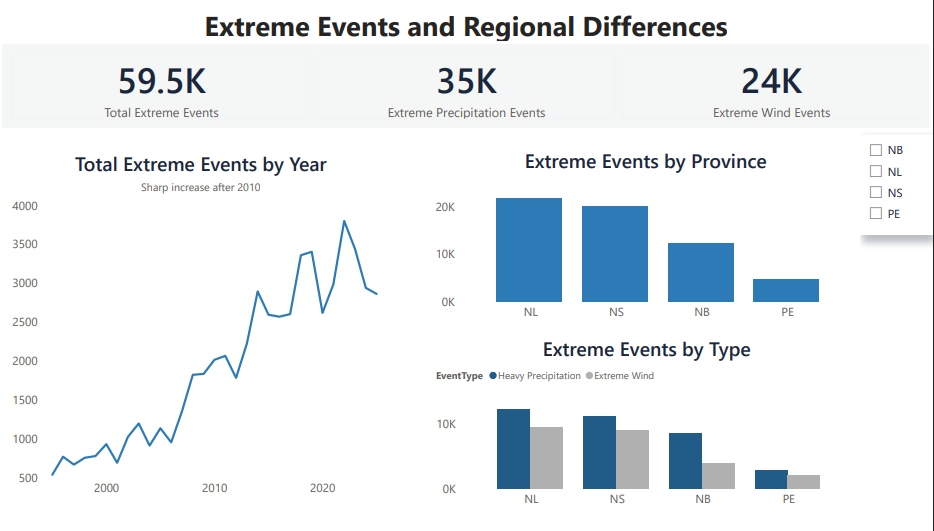

What the dashboard file says about the page in this screenshot:
{"tool":"powerbi","page":{"name":"Extreme Events","canvas":[1280,720],"ordinal":2},"visuals":[{"type":"textbox","box":[0,0,1280.5,76.1],"z":0},{"type":"cardVisual","fields":{"Data":["Fact_Extreme_Events.Total Extreme Events","Fact_Extreme_Events.Extreme Precipitation Events","Fact_Extreme_Events.Extreme Wind Events"]},"box":[0,51.2,1280.5,125.9],"z":1000},{"type":"lineChart","fields":{"Category":["Dim_Calendar.Year"],"Y":["Fact_Extreme_Events.Total Extreme Events"]},"box":[12.5,180,527.5,506.2],"z":2000},{"type":"clusteredColumnChart","title":"Extreme Events by Type","fields":{"Y":["Fact_Extreme_Events.Total Extreme Events"],"Category":["Fact_Extreme_Events.EventType","Dim_Station.ProvinceCode","Dim_Calendar.Year"],"Series":["Fact_Extreme_Events.EventType"]},"box":[593.8,433.8,587.5,267.5],"z":3000},{"type":"slicer","fields":{"Values":["Dim_Station.ProvinceCode"]},"box":[1180.1,179.8,99.9,137.4],"z":5000},{"type":"clusteredColumnChart","title":"Extreme Events by Province","fields":{"Category":["Dim_Station.ProvinceCode","Dim_Calendar.Year"],"Y":["Fact_Extreme_Events.Total Extreme Events"]},"box":[593.2,177.3,586.9,267.2],"z":6000}]}

Visuals, with their boxes in screenshot pixels (x1, y1, x2, y2), scaled from the page's 1280x720 canvas onto the 934x531 screenshot:
textbox: pyautogui.locateOnScreen(0, 0, 933, 56)
cardVisual - Fact_Extreme_Events.Total Extreme Events x Fact_Extreme_Events.Extreme Precipitation Events: pyautogui.locateOnScreen(0, 38, 933, 131)
lineChart - Dim_Calendar.Year x Fact_Extreme_Events.Total Extreme Events: pyautogui.locateOnScreen(9, 133, 394, 506)
"Extreme Events by Type" clusteredColumnChart: pyautogui.locateOnScreen(433, 320, 862, 517)
slicer - Dim_Station.ProvinceCode: pyautogui.locateOnScreen(861, 133, 933, 234)
"Extreme Events by Province" clusteredColumnChart: pyautogui.locateOnScreen(433, 131, 861, 328)
